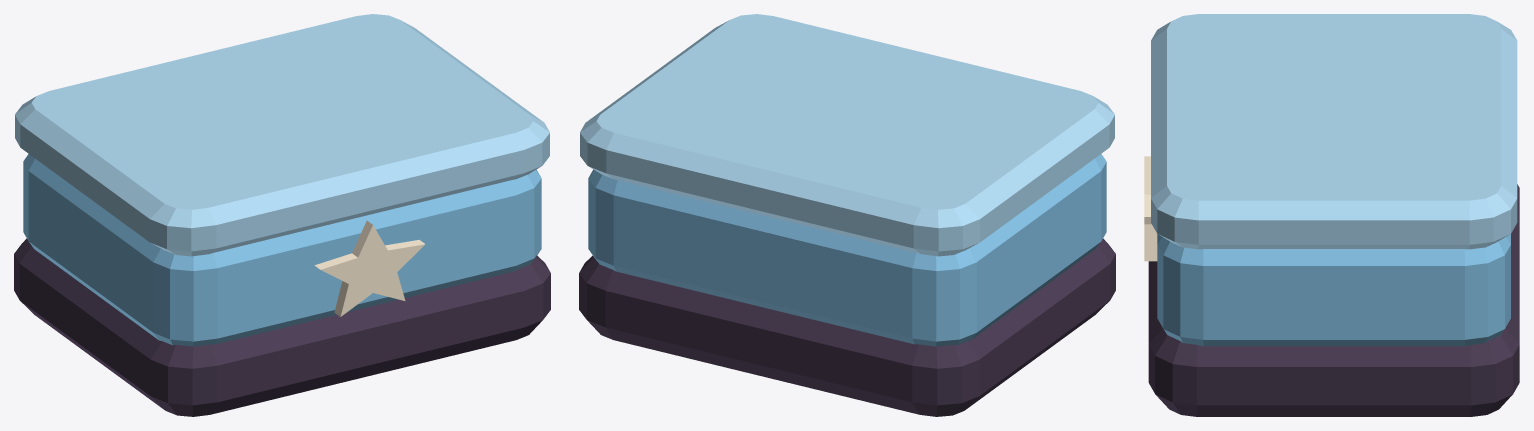
File: podium_2.glb
3 views of the same model, side by side, from view 1: azimuth 30°, elevation 25°; view 2: azimuth 150°, elevation 25°; view 3: azimuth 270°, elevation 25° (orthographic). The views are drawn at different scales.
Visible parts, largest first — view 1: model; view 2: model; view 3: model.
Boxes of the visible parts, left/top/right/bottom form: model: left=14, top=14, right=550, bottom=416; model: left=579, top=14, right=1115, bottom=416; model: left=1144, top=14, right=1519, bottom=416.
Bounding box in the file's own units: 1.4 × 0.7 × 1.1.
